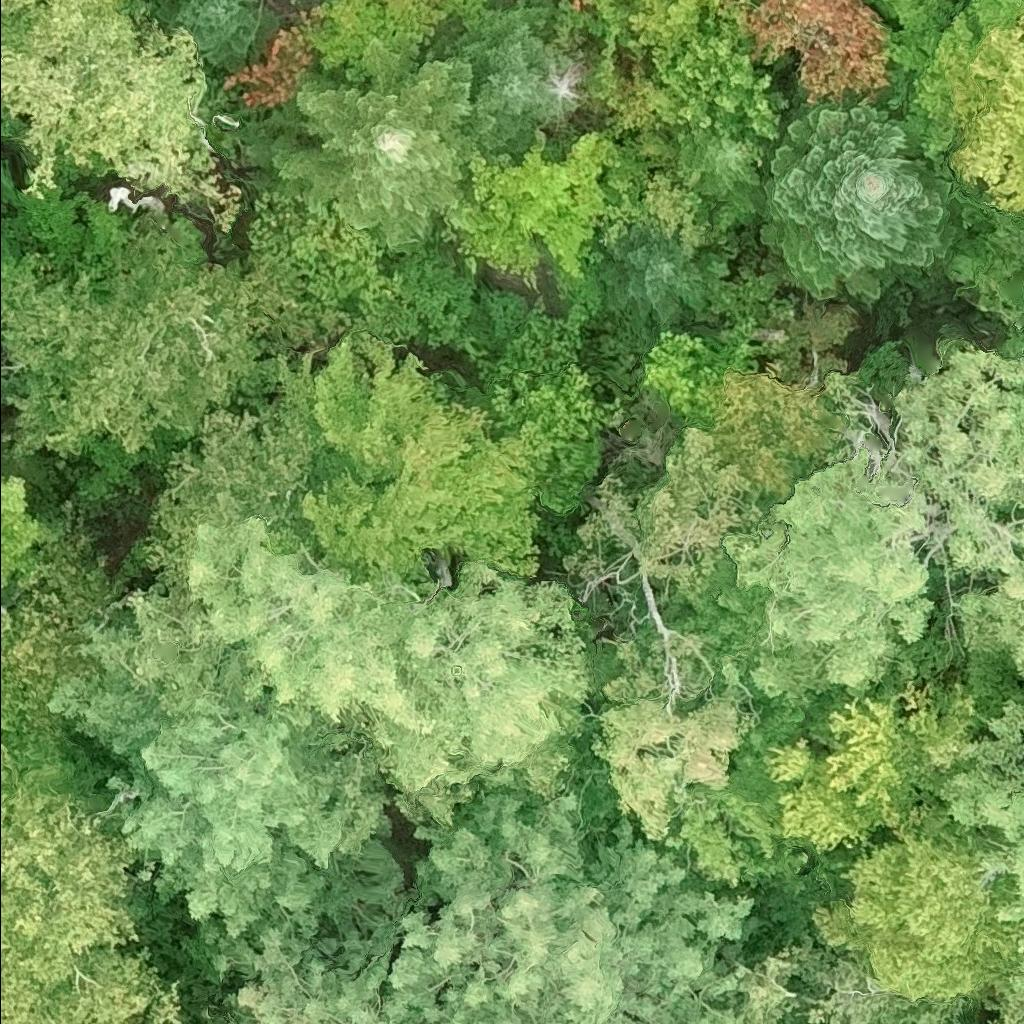crown: (46, 577, 406, 966), (375, 789, 753, 1023), (0, 218, 293, 489), (714, 374, 949, 705), (272, 339, 541, 602), (341, 561, 596, 828), (186, 515, 455, 735), (244, 40, 502, 255), (0, 19, 244, 229), (0, 765, 182, 1023), (143, 347, 324, 594), (892, 341, 1023, 675), (812, 806, 1023, 1006), (765, 679, 1003, 854), (757, 104, 965, 300), (569, 426, 765, 624), (438, 128, 619, 312), (0, 499, 138, 730), (605, 615, 746, 834), (244, 186, 405, 346), (881, 0, 1023, 179), (365, 218, 530, 365), (442, 0, 584, 164), (710, 934, 961, 1023), (181, 918, 391, 1023), (700, 372, 842, 521), (932, 699, 1023, 925), (492, 364, 614, 509), (719, 0, 890, 103), (945, 13, 1023, 229), (303, 0, 487, 81), (653, 32, 789, 137), (597, 222, 705, 329), (641, 330, 746, 433), (473, 303, 592, 382), (154, 0, 281, 70), (0, 0, 139, 58), (0, 476, 56, 590), (980, 971, 1023, 1023), (0, 13, 26, 52), (1020, 932, 1023, 952), (944, 1022, 950, 1023), (960, 1022, 962, 1023)
